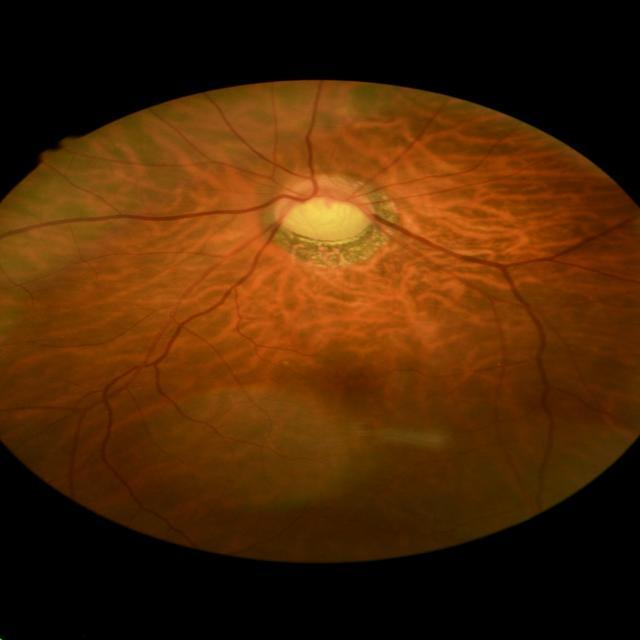cup: (284, 191, 368, 239)
disk: (274, 174, 375, 241)
